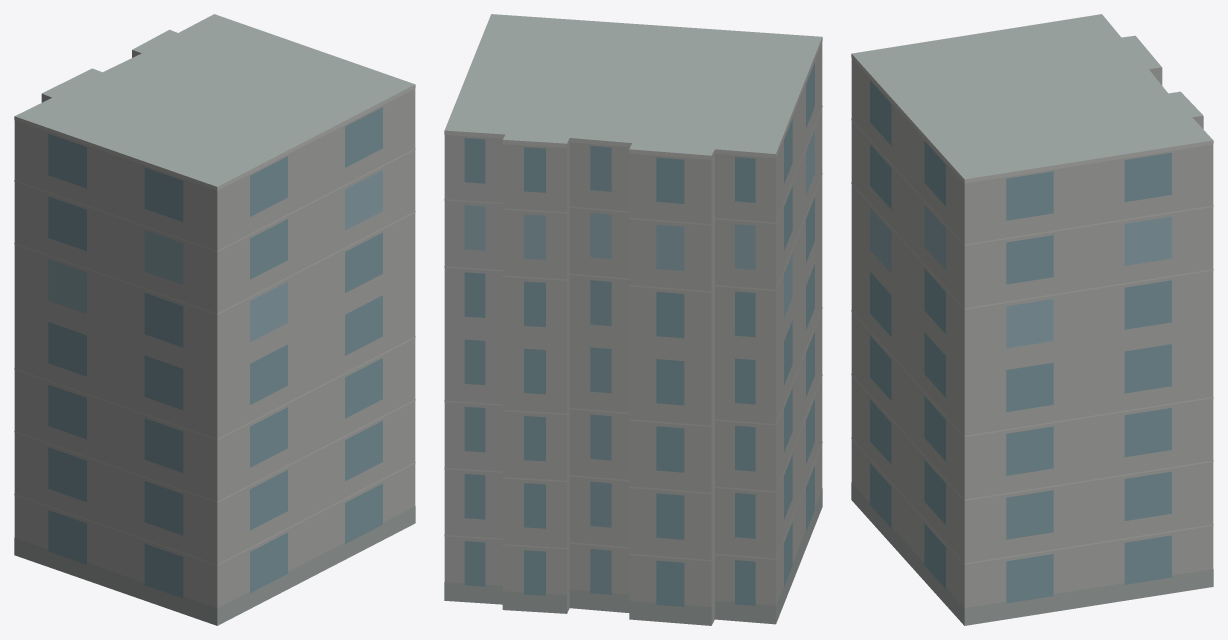
Rendered from survey-upis-32934798.glb.
3 renders of one model, left to right at view 1: azimuth 30°, elevation 25°; view 2: azimuth 150°, elevation 25°; view 3: azimuth 270°, elevation 25°, orthographic. The views are drawn at different scales.
Visible parts, largest first — view 1: survey-upis-32934798.tmp; view 2: survey-upis-32934798.tmp; view 3: survey-upis-32934798.tmp.
Part boxes in pixels (left/top/right/bottom): survey-upis-32934798.tmp: left=14, top=14, right=415, bottom=625; survey-upis-32934798.tmp: left=444, top=14, right=822, bottom=625; survey-upis-32934798.tmp: left=851, top=14, right=1213, bottom=625.
Bounding box in the file's own units: 21.09 × 26.5 × 19.5.
